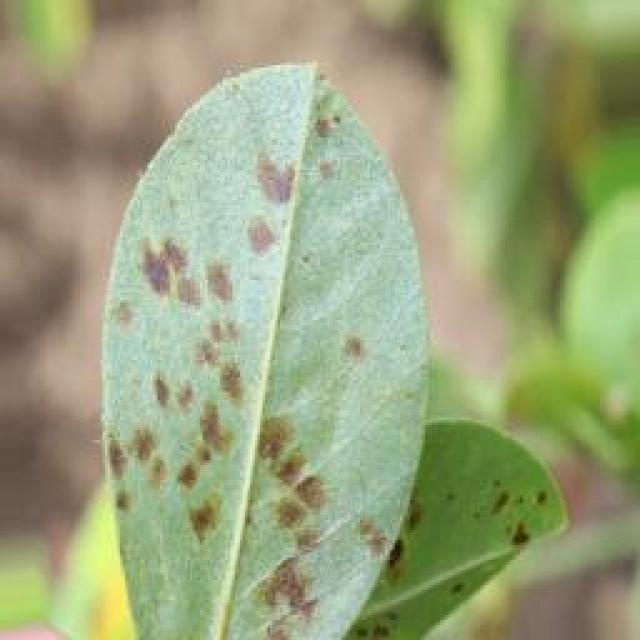Whitefly: (67, 64, 567, 638)
